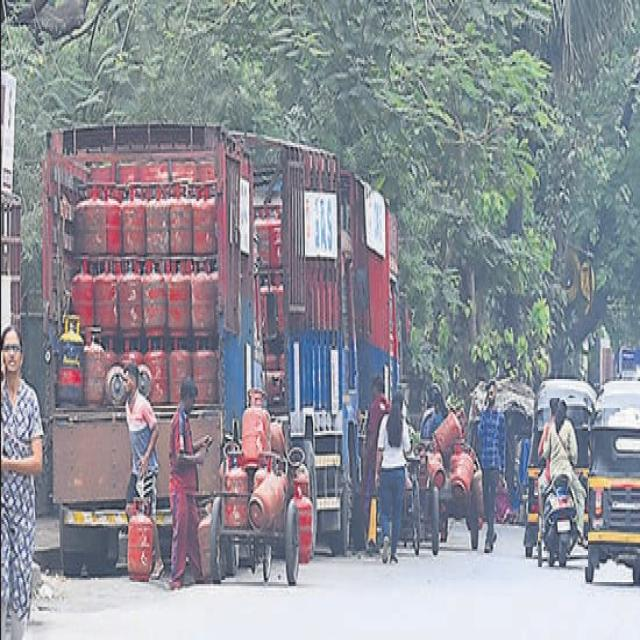autorickshaw: (524, 378, 596, 555), (585, 380, 640, 584)
motorcycle: (539, 399, 588, 567)
